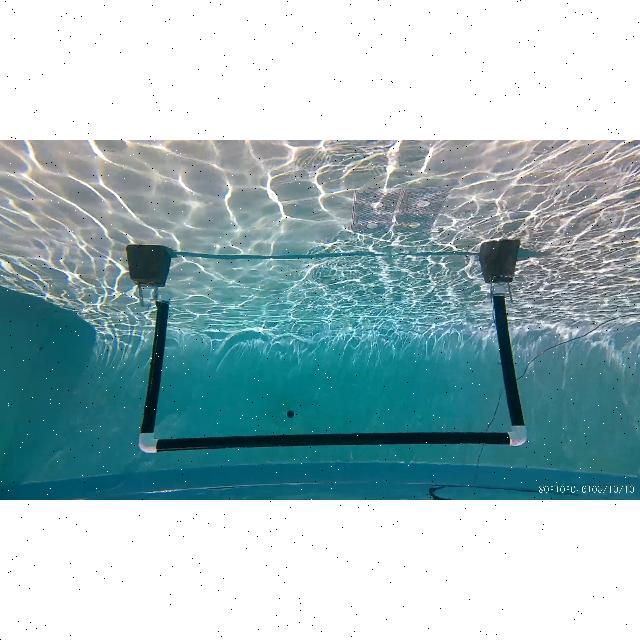prequal gate: (136, 281, 532, 453)
prequal gate leg l: (489, 254, 533, 448)
prequal gate leg r: (138, 253, 170, 465)
